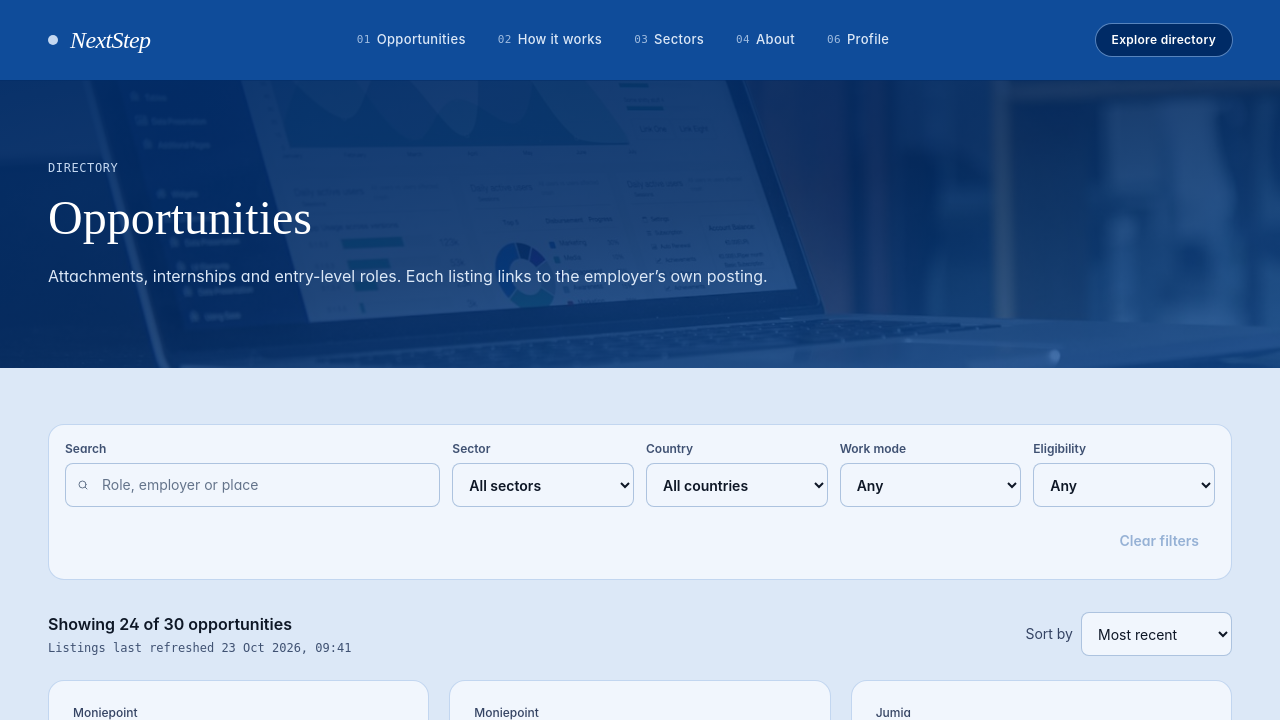
Test: site routes › directory › filters by search text and clears back to everything
Expected: the text "Showing 24 of 30 opportunities" is shown, [48,614,292,634]
Type "payments" into the search field at x=253, y=485, box [65,463,440,507]
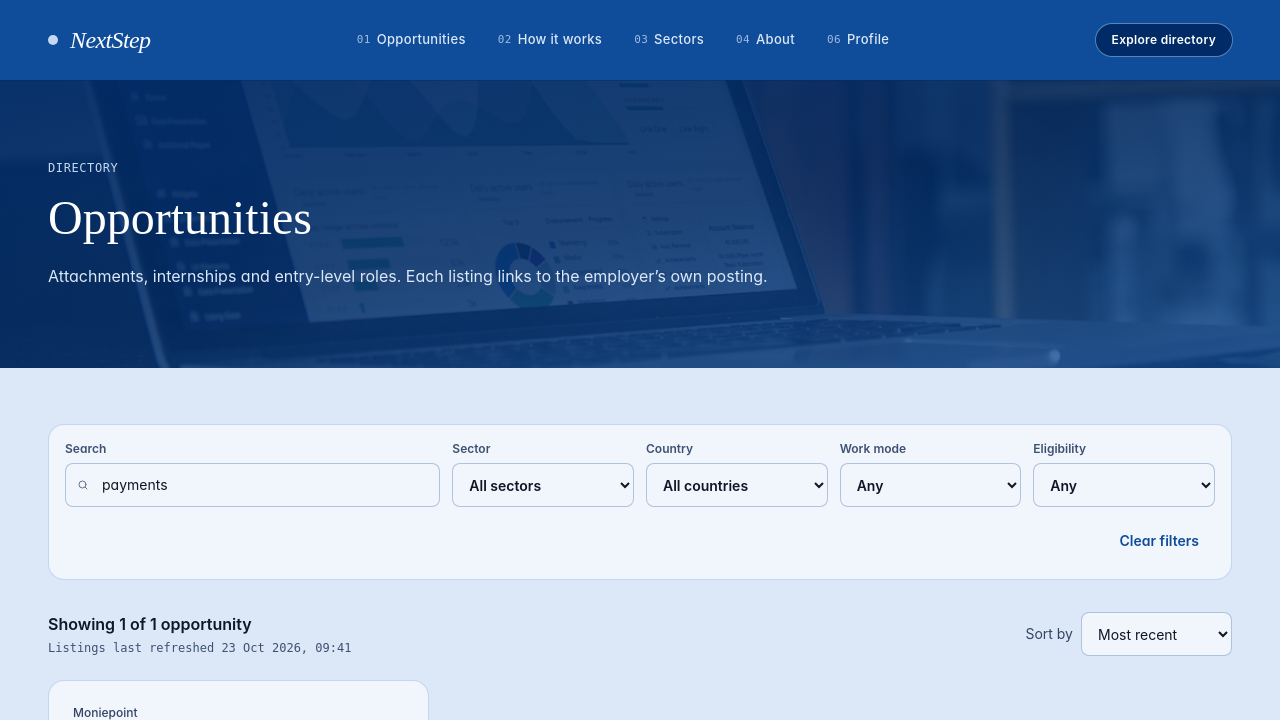
Now the text "Showing 1 of 1 opportunity" is shown, box [48,614,252,634]
Click the button "Clear filters" at x=1159, y=541, box [1104,519,1215,563]
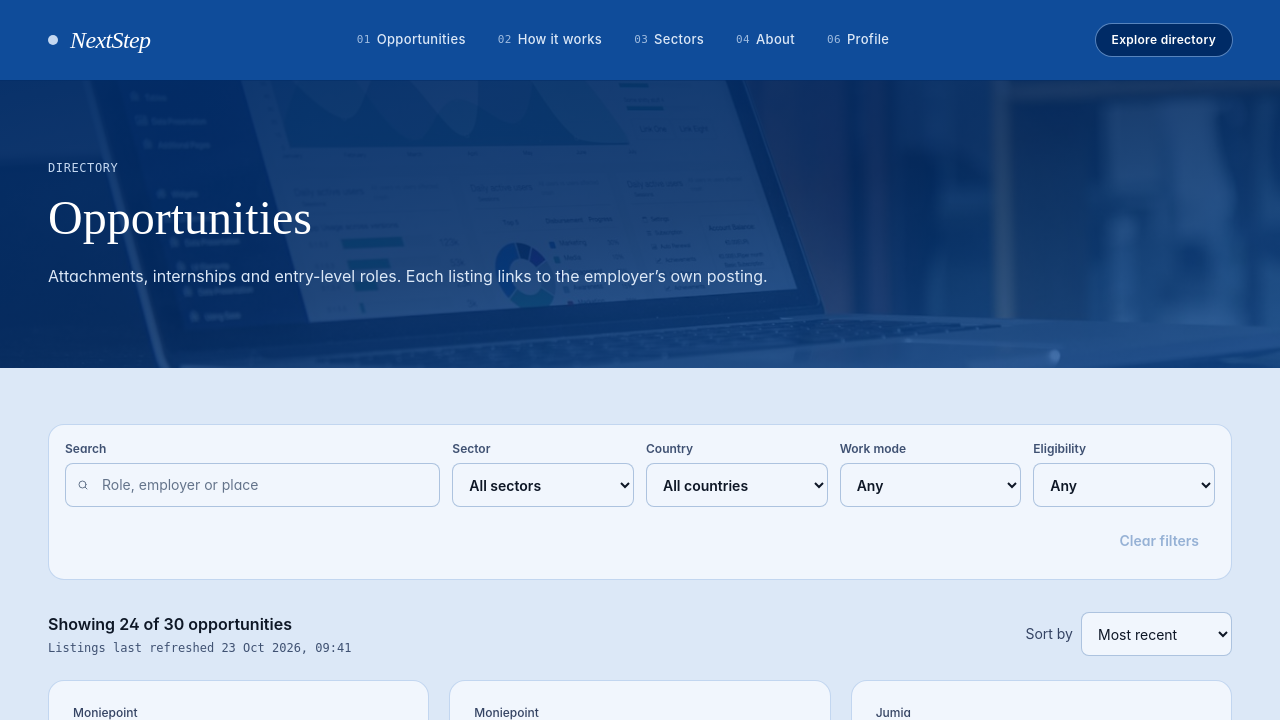
Now the text "Showing 24 of 30 opportunities" is shown, box [48,614,292,634]
